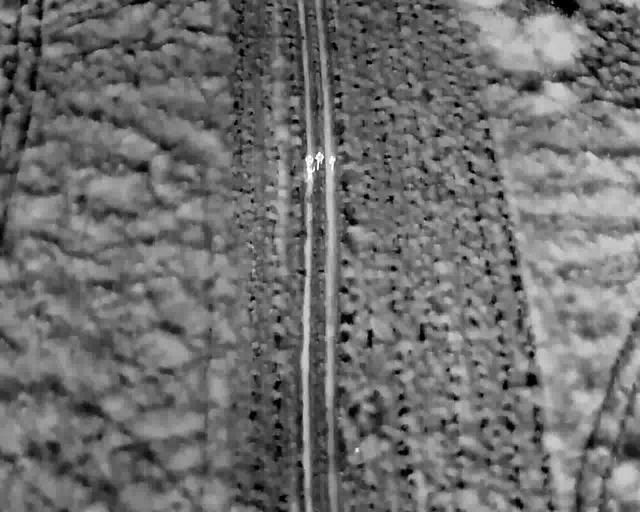person: (313, 150, 326, 172), (326, 152, 339, 172), (304, 163, 317, 182), (302, 152, 315, 171)
